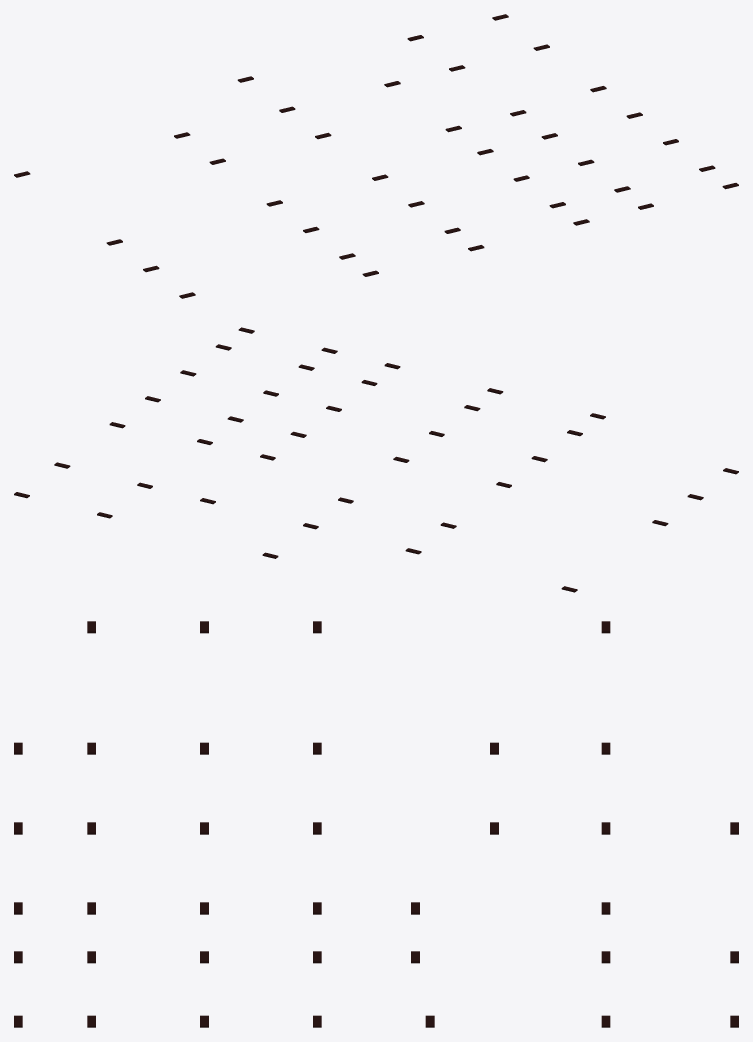
3 renders of one model, top to bottom at view 1: azimuth 30°, elevation 25°; view 2: azimuth 150°, elevation 25°; view 3: azimuth 270°, elevation 25°, orthographic. The views are drawn at different scales.
Visible parts, largest first — view 1: Box297; view 2: Box297; view 3: Box297.
Boxes of the visible parts, left/top/right/bottom form: Box297: left=14, top=14, right=738, bottom=298; Box297: left=14, top=327, right=738, bottom=592; Box297: left=14, top=621, right=738, bottom=1027.
Bounding box in the file's own units: 13069 × 30 × 9895.
